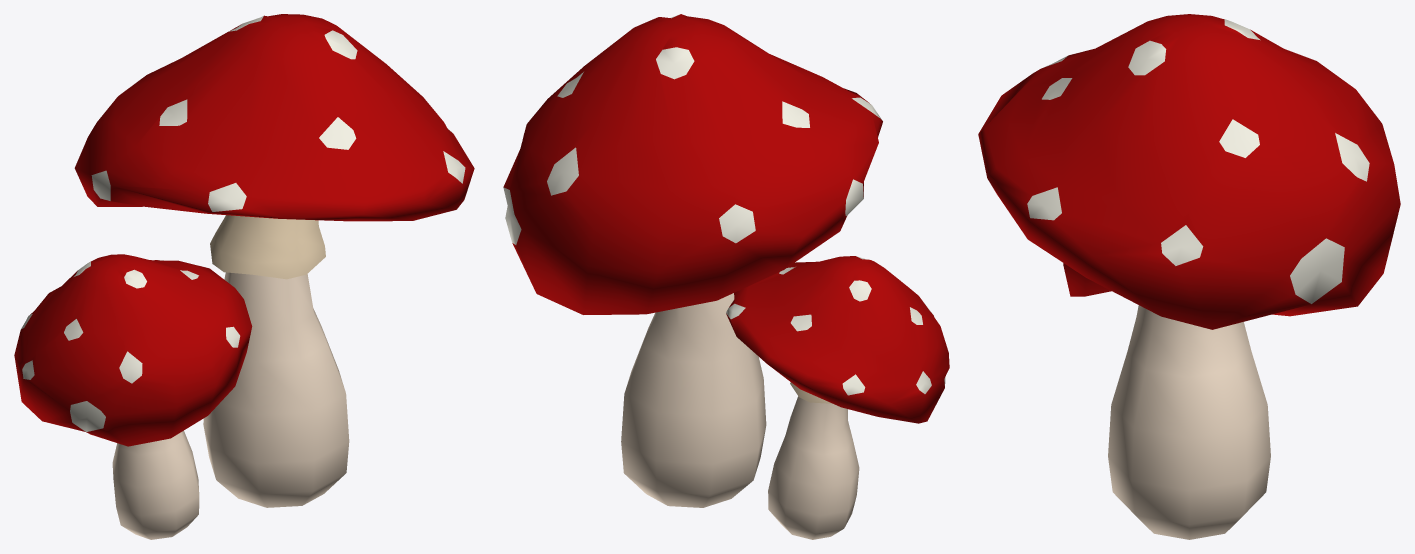
File: Mushroom_03_1.fbx
3 views of the same model, side by side, from view 1: azimuth 30°, elevation 25°; view 2: azimuth 150°, elevation 25°; view 3: azimuth 270°, elevation 25° (orthographic). The views are drawn at different scales.
Visible parts, largest first — view 1: Mushroom_03_1; view 2: Mushroom_03_1; view 3: Mushroom_03_1.
Boxes of the visible parts, <box> form: Mushroom_03_1: <box>14,14,474,539</box>; Mushroom_03_1: <box>503,14,949,539</box>; Mushroom_03_1: <box>978,14,1400,539</box>.
Bounding box in the file's own units: 36.65 × 29.88 × 39.99.
